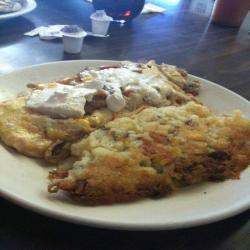cream: (25, 58, 172, 114)
pie: (45, 98, 250, 204), (1, 59, 204, 162)
